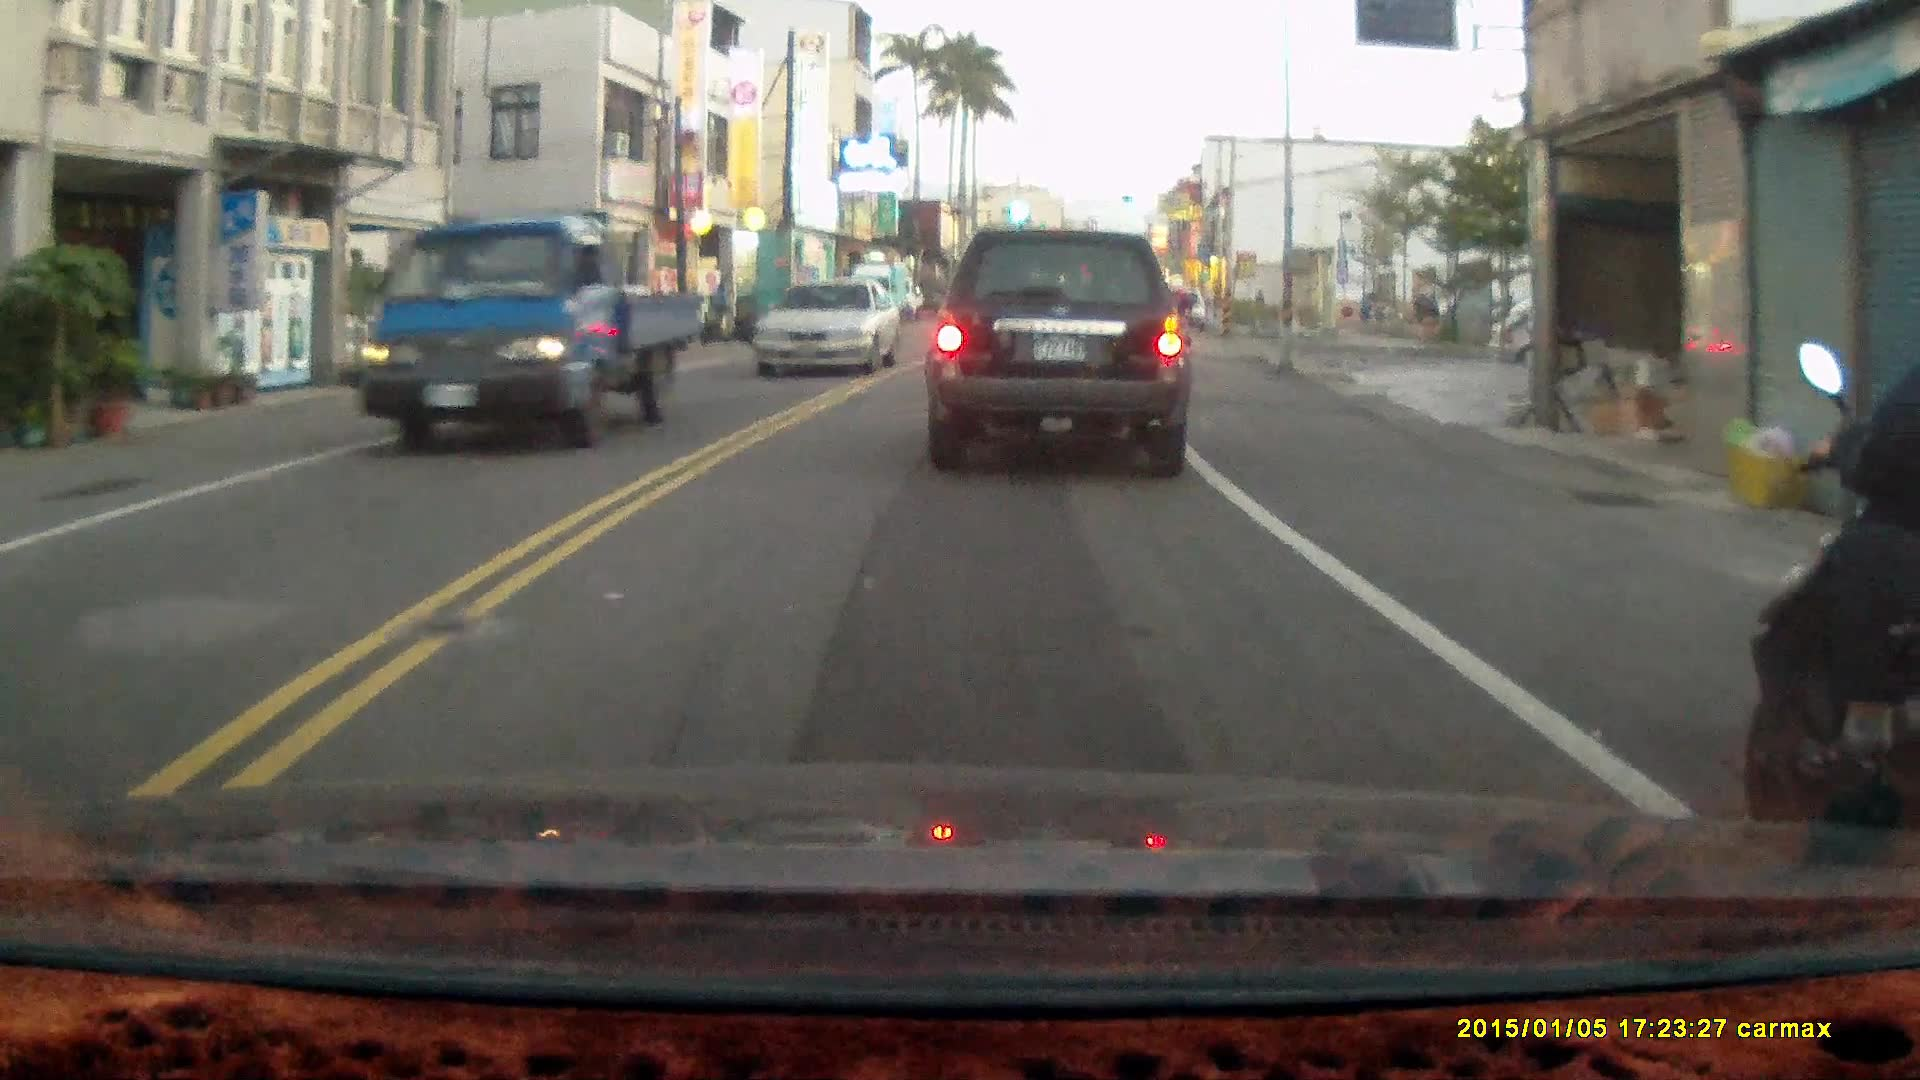pedestrian: (710, 277, 731, 333)
rider: (1750, 282, 1920, 901), (1159, 272, 1192, 358)
vehicle: (351, 212, 706, 454), (924, 226, 1196, 483), (755, 279, 905, 381)
